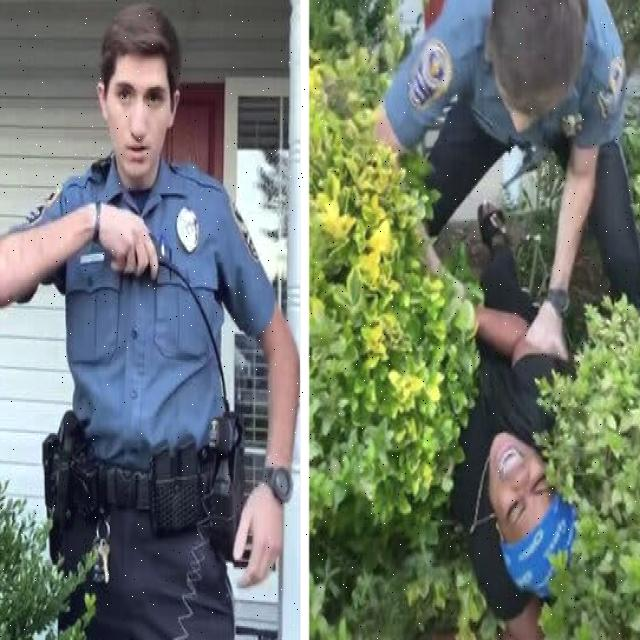police: (0, 0, 282, 640), (365, 0, 640, 357)
